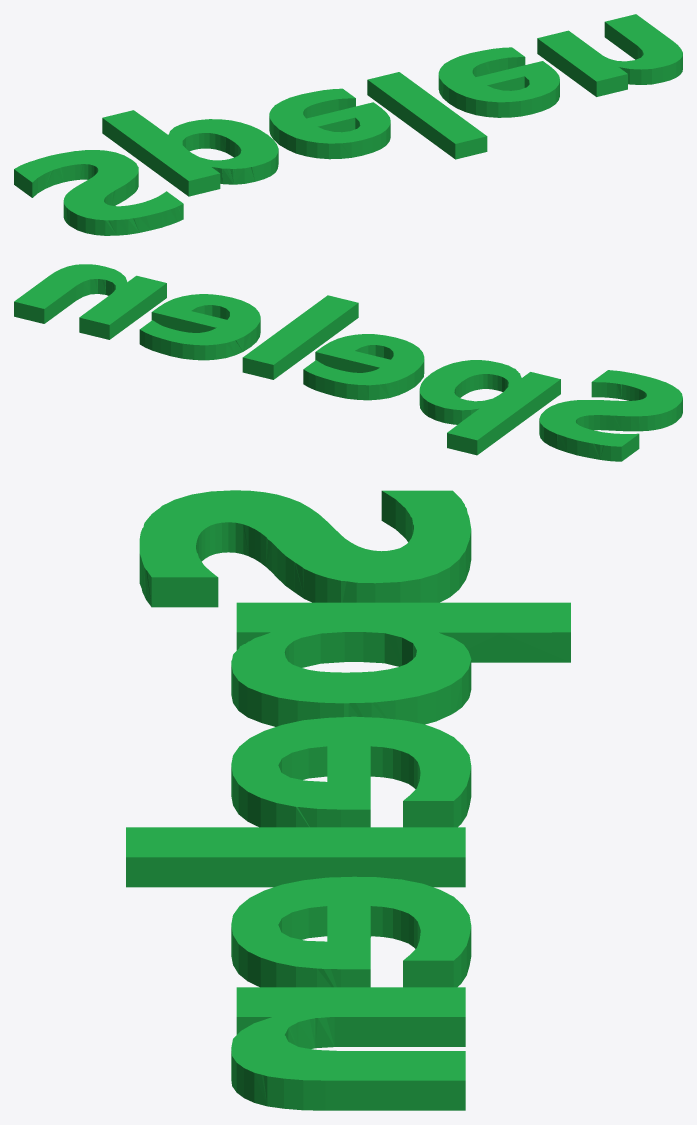
The model's file is SpelenTxt.obj.
The picture shows the model from 3 angles, top to bottom: view 1: azimuth 30°, elevation 25°; view 2: azimuth 150°, elevation 25°; view 3: azimuth 270°, elevation 25°; orthographic projection. The views are drawn at different scales.
Visible parts, largest first — view 1: Object.2, Object.1, Object.6, Object.4, Object.5, Object.3; view 2: Object.1, Object.2, Object.6, Object.4, Object.5, Object.3; view 3: Object.2, Object.1, Object.6, Object.5, Object.4, Object.3.
Boxes of the visible parts, box(x1,y1,x2,y2) form: Object.2: box(102, 110, 278, 196); Object.1: box(14, 150, 183, 235); Object.6: box(537, 14, 682, 96); Object.4: box(269, 88, 390, 159); Object.5: box(438, 47, 559, 117); Object.3: box(367, 72, 487, 159); Object.1: box(539, 370, 682, 461); Object.2: box(419, 360, 560, 455); Object.6: box(14, 264, 166, 339); Object.4: box(303, 334, 424, 400); Object.5: box(139, 294, 260, 360); Object.3: box(242, 295, 358, 379); Object.2: box(231, 602, 570, 726); Object.1: box(139, 490, 471, 607); Object.6: box(231, 987, 465, 1110); Object.5: box(231, 876, 471, 987); Object.4: box(231, 716, 471, 827); Object.3: box(126, 827, 465, 887).
Size of the model in its own units: 24.55 by 0.5846 by 7.83.
